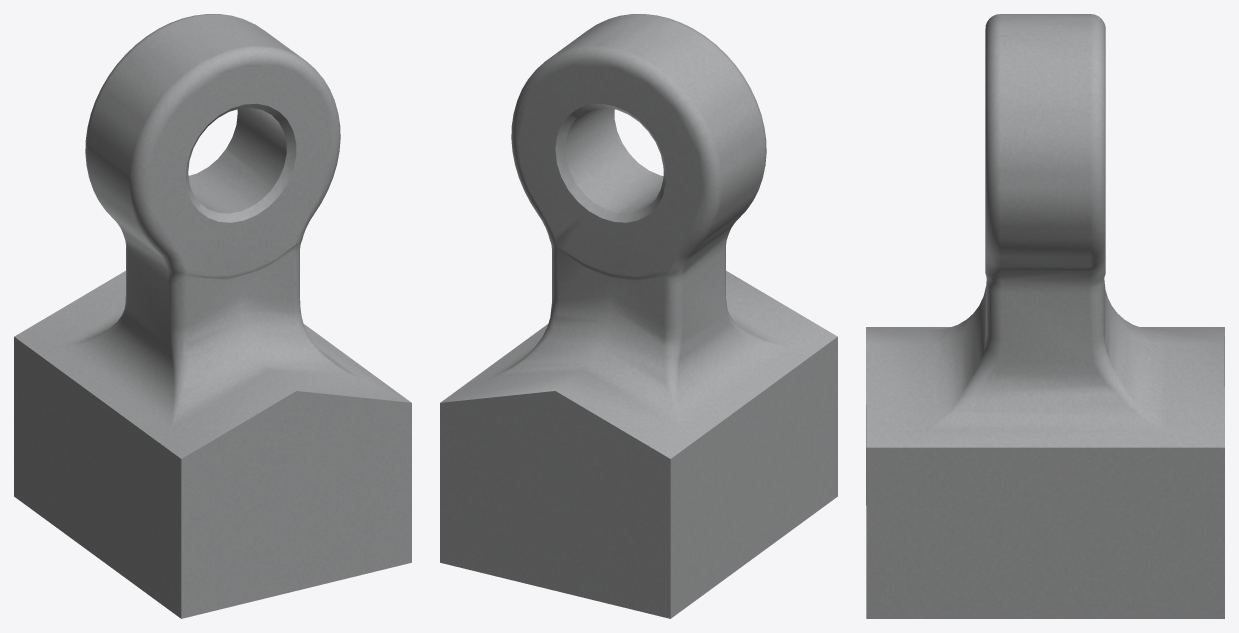
Rendered from quarry-sintercast-hammer.glb.
3 views of the same model, side by side, from view 1: azimuth 30°, elevation 25°; view 2: azimuth 150°, elevation 25°; view 3: azimuth 270°, elevation 25° (orthographic). The views are drawn at different scales.
Visible parts, largest first — view 1: sinterCeramic; view 2: sinterCeramic; view 3: sinterCeramic.
Boxes of the visible parts, x1,y1,x2,y2 form: sinterCeramic: (14,14,411,618); sinterCeramic: (440,14,837,618); sinterCeramic: (866,14,1224,618).
Bounding box in the file's own units: 0.187 × 0.3849 × 0.235.
1 material, 1 textured.
